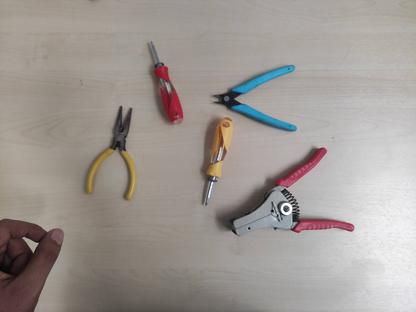Screwdriver: (145, 40, 185, 126), (196, 116, 233, 206)
